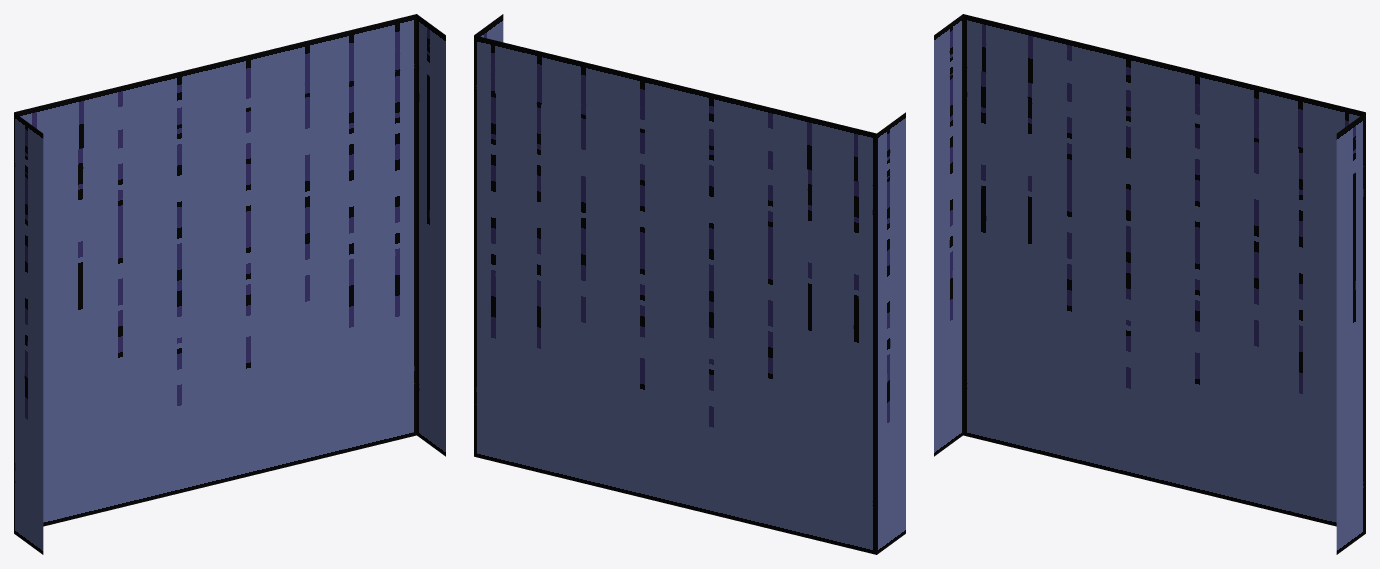
File: Wall_PodA.glb
3 renders of one model, left to right at view 1: azimuth 30°, elevation 25°; view 2: azimuth 150°, elevation 25°; view 3: azimuth 330°, elevation 25°, orthographic.
Parts seen in each view (by area): view 1: Wall_PodA; view 2: Wall_PodA; view 3: Wall_PodA.
Boxes of the visible parts, x1,y1,x2,y2 form: Wall_PodA: (14,14,445,554); Wall_PodA: (474,14,905,554); Wall_PodA: (934,14,1365,554).
Bounding box in the file's own units: 5 × 5 × 0.625.
Materials: 1 (1 with a texture image).
